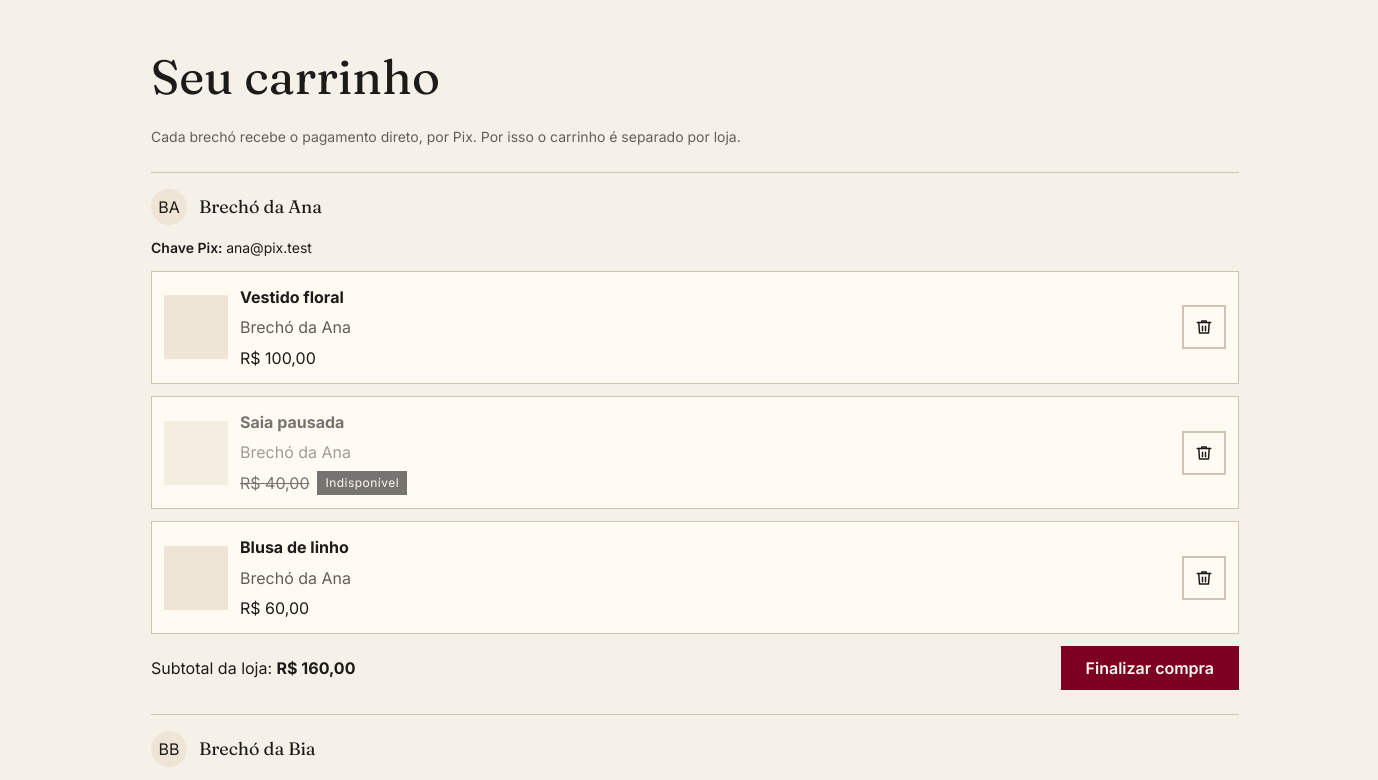
Test: <Cart /> › Finalizar compra leva ao checkout só com as peças disponíveis daquela loja
This screenshot has width=1378, height=780.
Click the button "Finalizar compra" at (1150, 668), box [1061,646,1239,690]
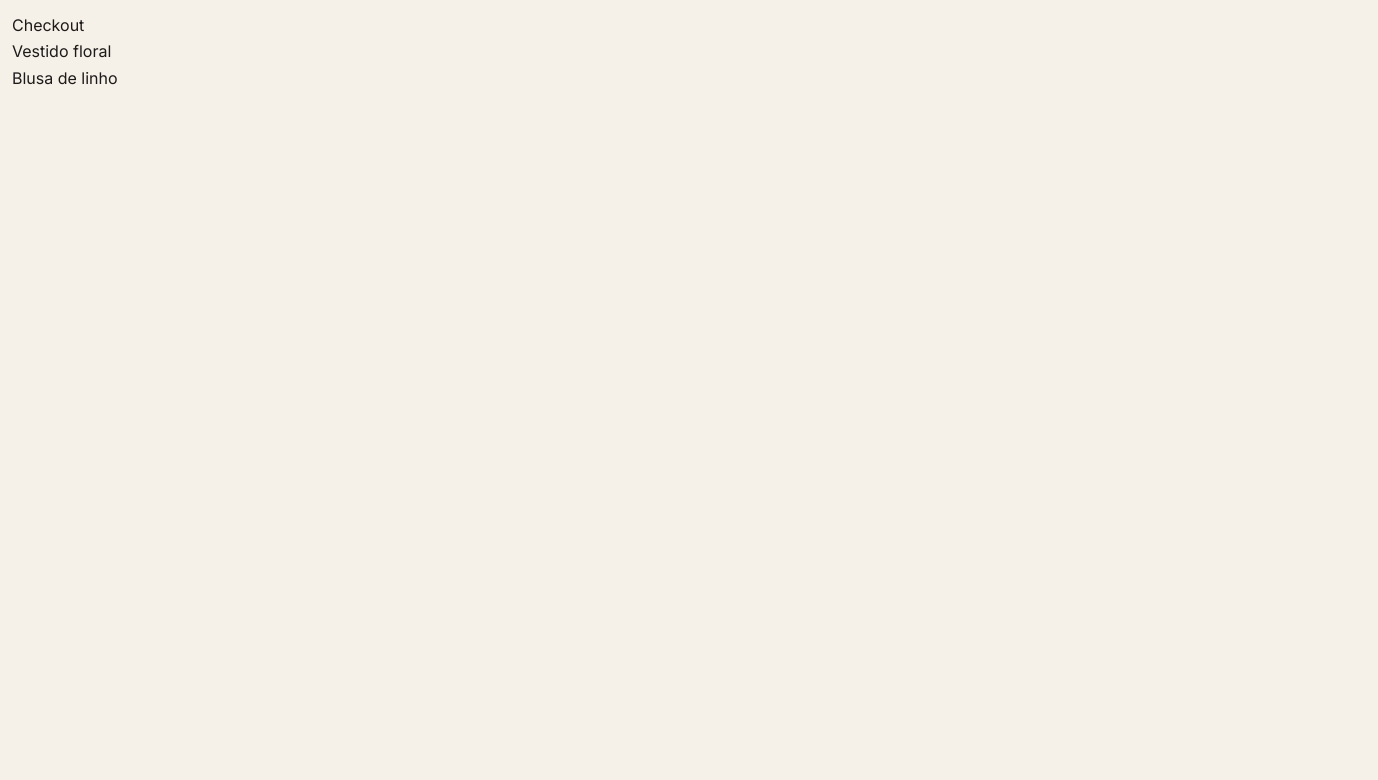
Expected: the list items read "Vestido floral", "Blusa de linho", in this order, [12,41,111,61]; [12,68,118,88]
